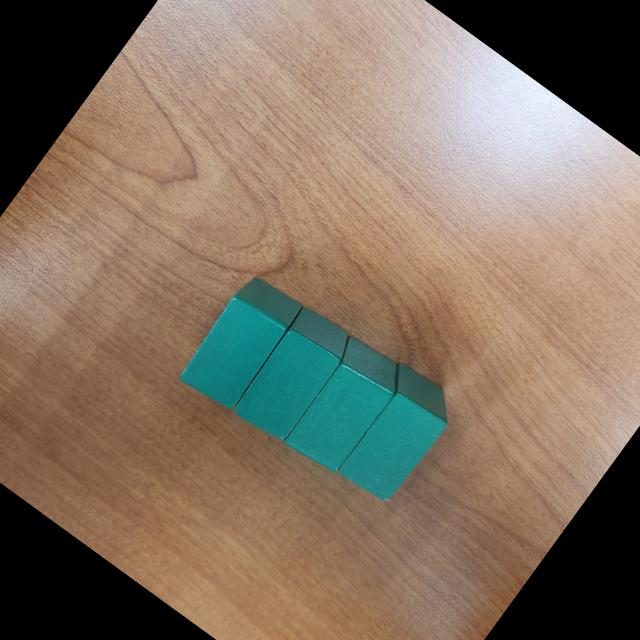green: (321, 358, 461, 511), (274, 329, 410, 479), (174, 268, 306, 415), (226, 301, 358, 448)
